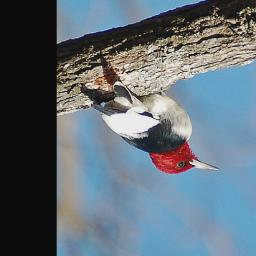Woodpecker: (90, 79, 223, 175)
